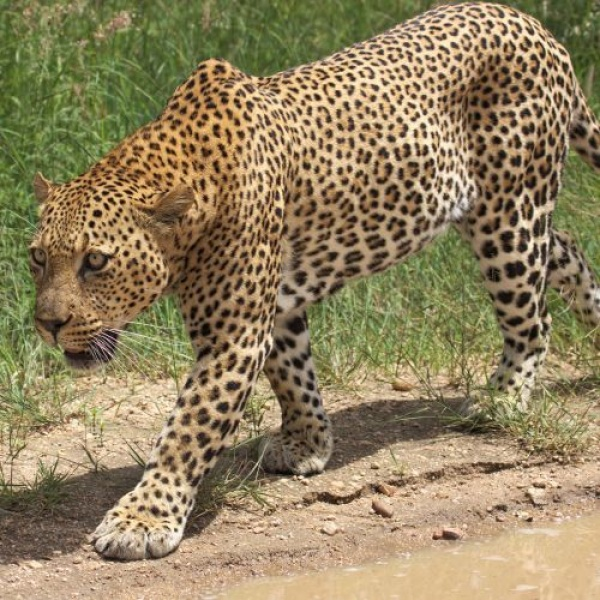Leopard: (27, 1, 600, 563)
